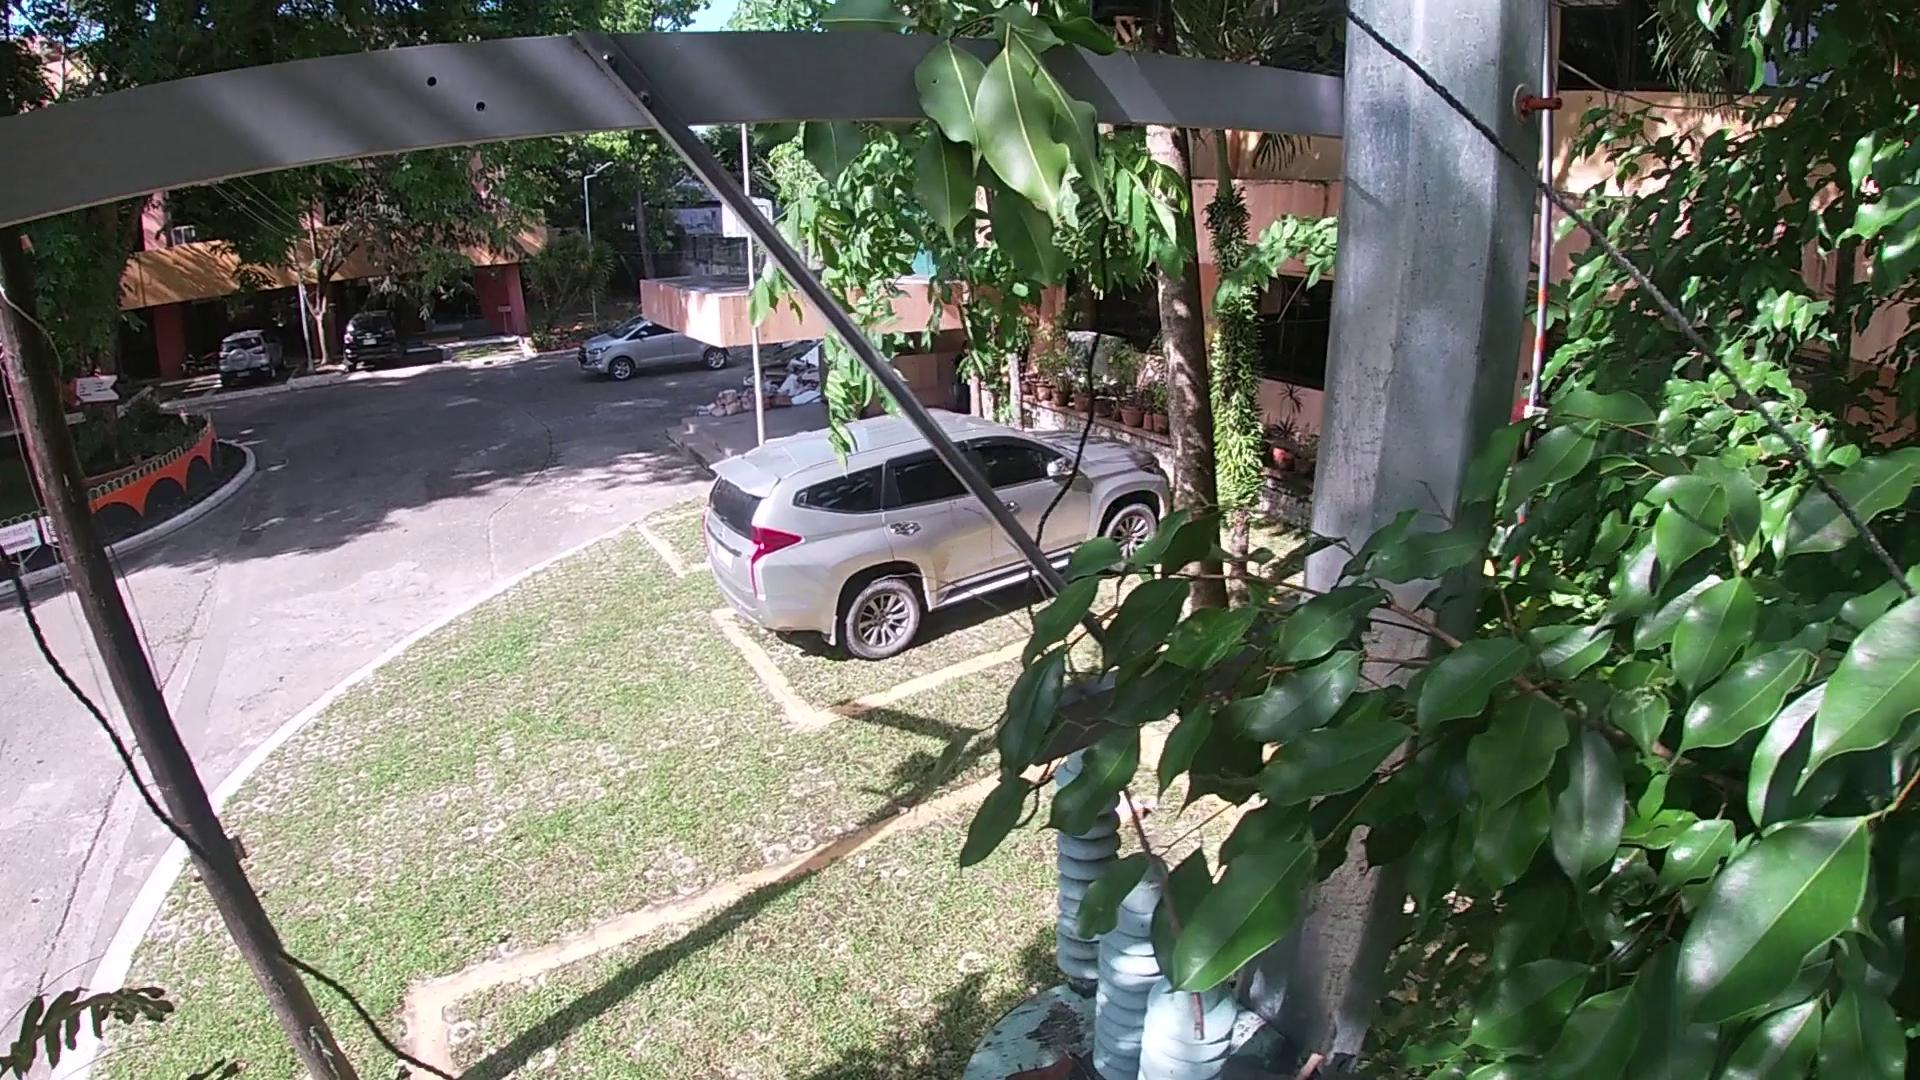mahogany fruit: (1000, 1046, 1079, 1080)
tree branch: (953, 546, 1233, 1039), (1222, 1062, 1338, 1077), (1288, 1046, 1337, 1080)
